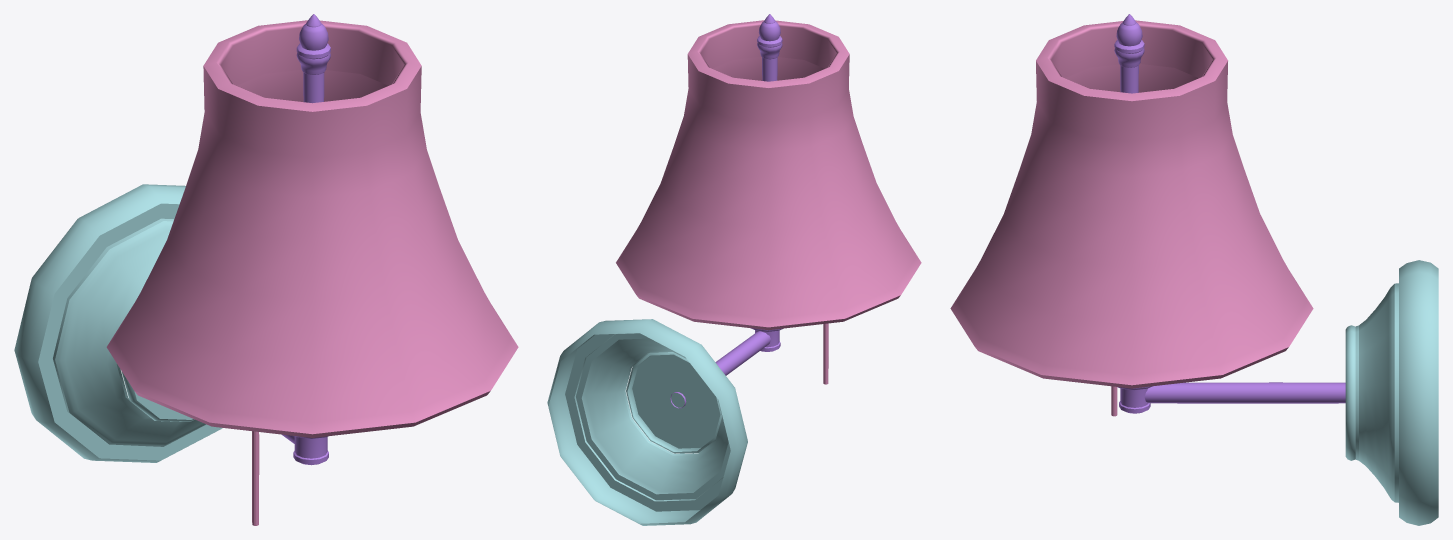
The model's file is Friday_OwnersSuite_BedroomLamp.fbx.
3 renders of one model, left to right at view 1: azimuth 30°, elevation 25°; view 2: azimuth 150°, elevation 25°; view 3: azimuth 270°, elevation 25°, orthographic. The views are drawn at different scales.
Parts seen in each view (by area): view 1: LampShade, WallThing, Lamp, Pullcord; view 2: LampShade, WallThing, Lamp; view 3: LampShade, WallThing, Lamp.
Boxes of the visible parts, left/top/right/bottom form: LampShade: left=106, top=20, right=518, bottom=437; WallThing: left=14, top=184, right=222, bottom=462; Lamp: left=282, top=14, right=330, bottom=465; Pullcord: left=252, top=431, right=259, bottom=525; LampShade: left=616, top=20, right=921, bottom=330; WallThing: left=547, top=319, right=747, bottom=525; Lamp: left=670, top=14, right=782, bottom=408; LampShade: left=950, top=20, right=1313, bottom=388; WallThing: left=1345, top=260, right=1438, bottom=525; Lamp: left=1114, top=14, right=1345, bottom=413.
Size of the model in its own units: 140 by 213 by 189.
